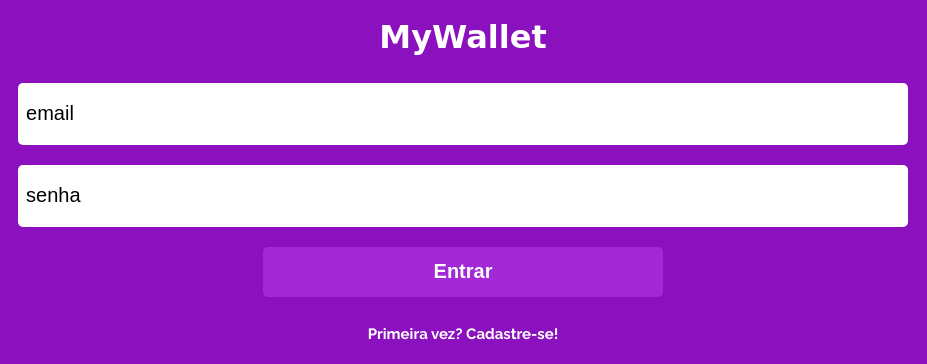
Login › should login failed and an alert message appears because password field is blank
The image size is (927, 364).
Step 1. Type "roseno@driven.com" into the field with placeholder "email" → [463, 114], box [18,83,908,145]
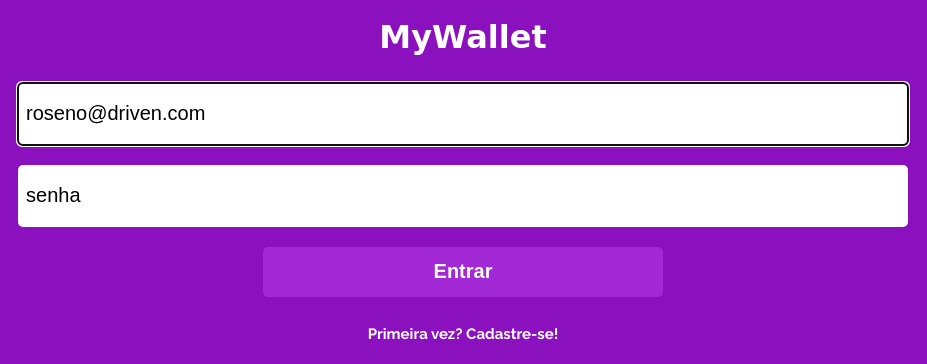
Step 2. Click the submit button → [463, 272], box [263,247,663,297]
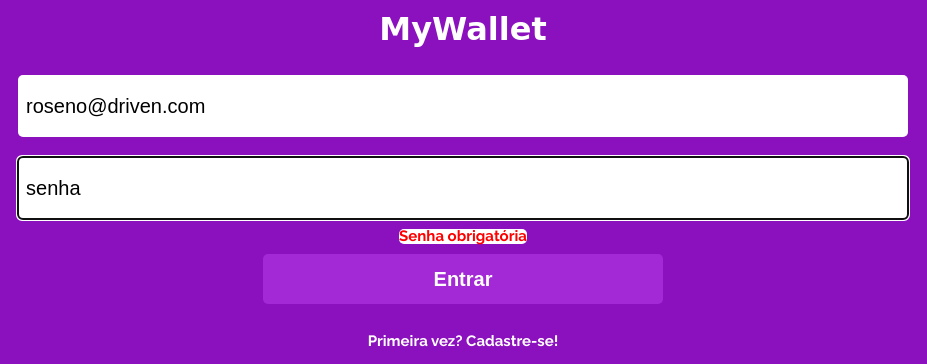
Result: the text "Senha obrigatória" is shown at [399,229,527,244]
